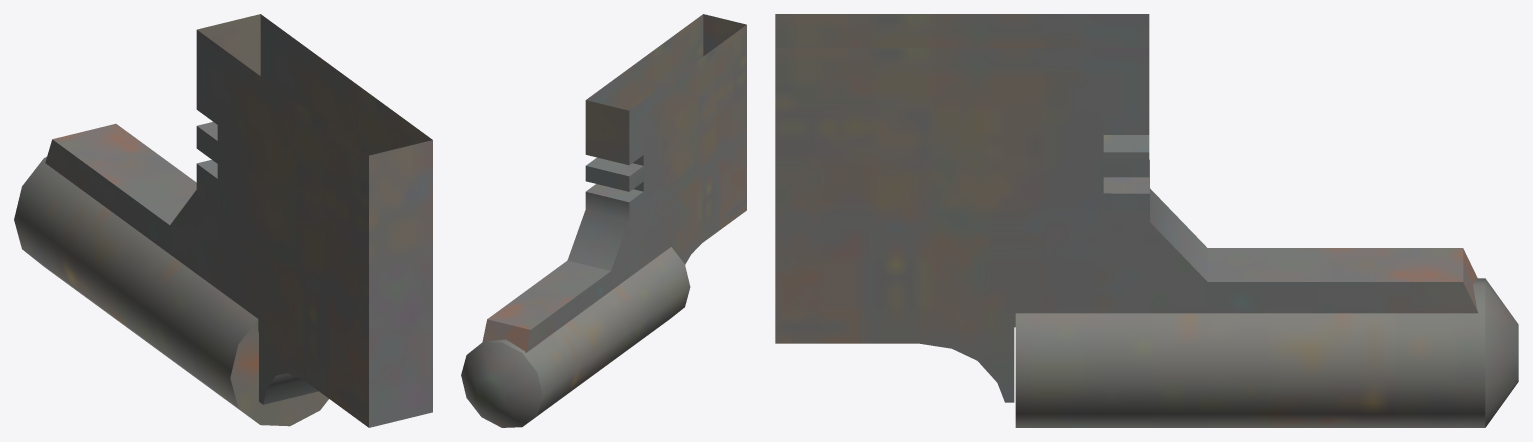
Rendered from acc1.obj.
3 views of the same model, side by side, from view 1: azimuth 30°, elevation 25°; view 2: azimuth 150°, elevation 25°; view 3: azimuth 270°, elevation 25° (orthographic). The views are drawn at different scales.
Parts seen in each view (by area): view 1: acc1; view 2: acc1; view 3: acc1.
Part boxes in pixels (box(x1,y1,x2,y2)): acc1: box(14, 14, 432, 427); acc1: box(461, 14, 746, 427); acc1: box(775, 14, 1518, 427).
Bounding box in the file's own units: 2.5 × 7.18 × 12.39.
